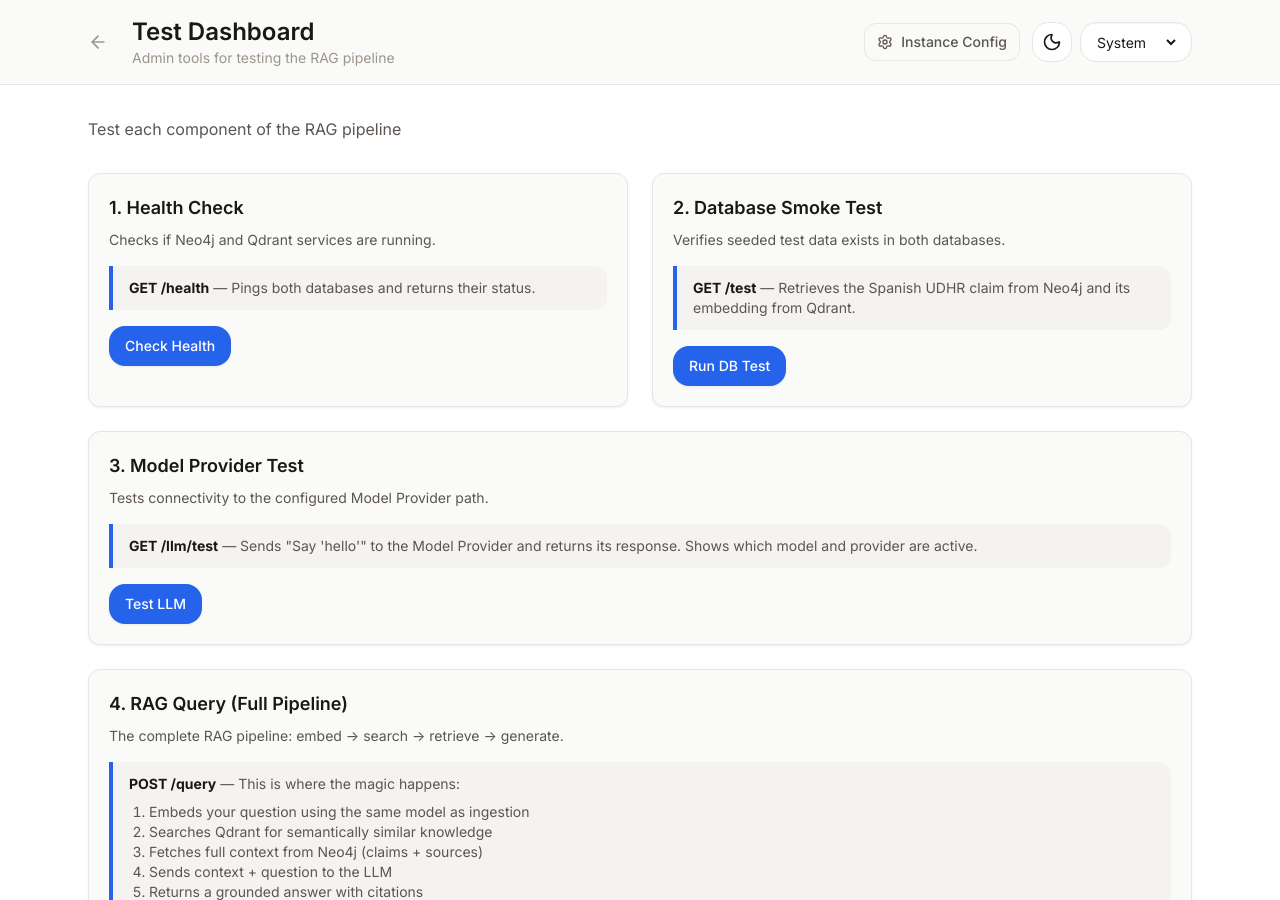
TestDashboard › checks health and renders the returned admin status output
The width and height of the screenshot is (1280, 900).
Expected: the element named "Endpoint guidance" shows "GET /health", [129,279,209,296]
Click the button "Check Health" at (170, 346), box [109,326,231,366]
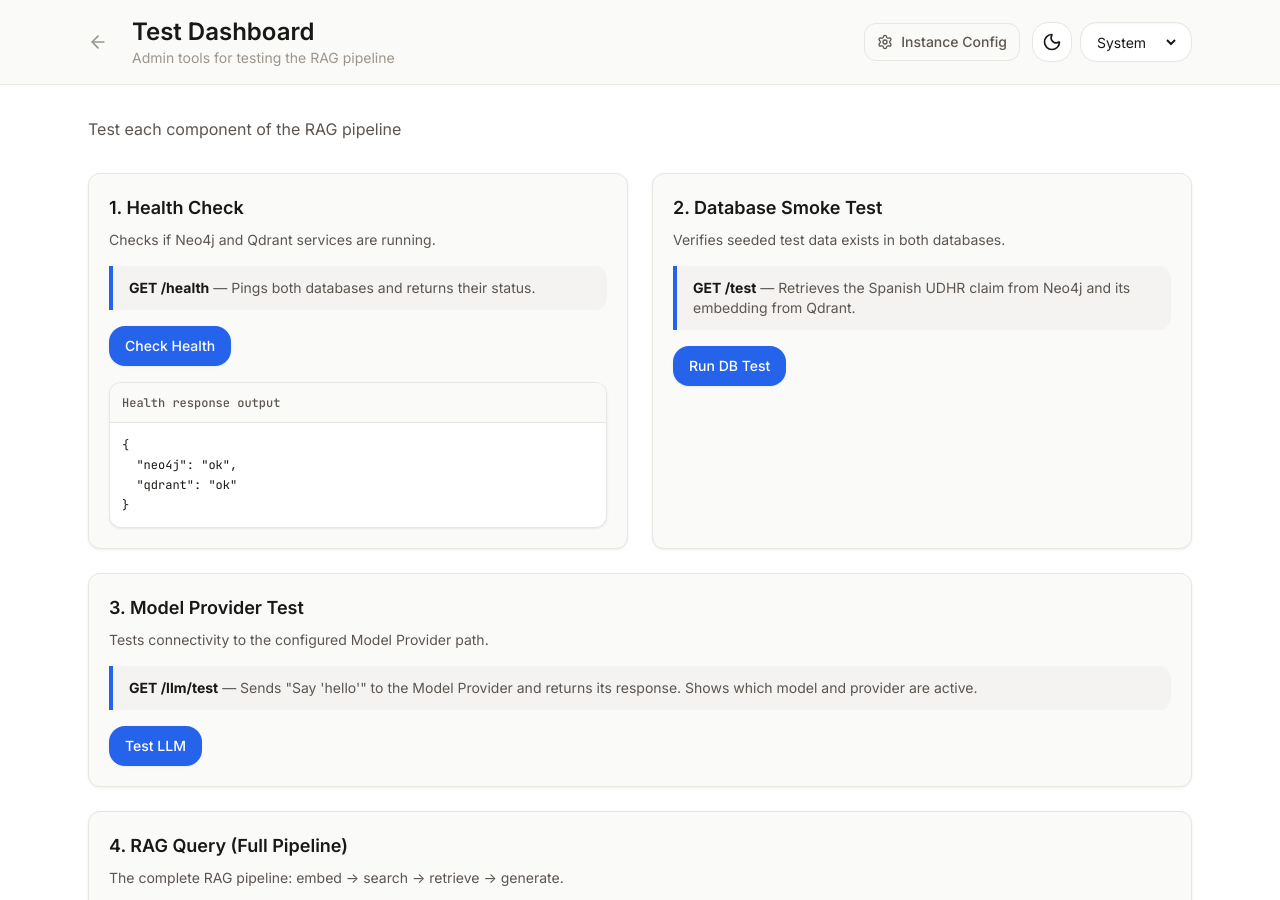
Result: the element "Health response output" shows "\"neo4j\": \"ok\"" at [122,437,237,513]
